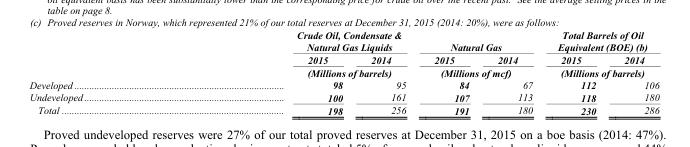table: (28, 28, 658, 115)
table column: (188, 28, 356, 115), (28, 28, 188, 115), (544, 28, 609, 115), (356, 28, 419, 115), (419, 28, 482, 115), (482, 28, 544, 115), (609, 28, 658, 115)
table column header: (28, 28, 658, 78)
table row: (28, 28, 658, 53), (28, 65, 658, 78), (28, 90, 658, 103), (28, 53, 658, 65), (28, 78, 658, 90), (28, 103, 658, 115)
table spanning cell: (188, 28, 419, 53), (419, 28, 544, 53), (188, 65, 419, 78), (544, 28, 658, 53), (419, 65, 544, 78), (544, 65, 658, 78)
